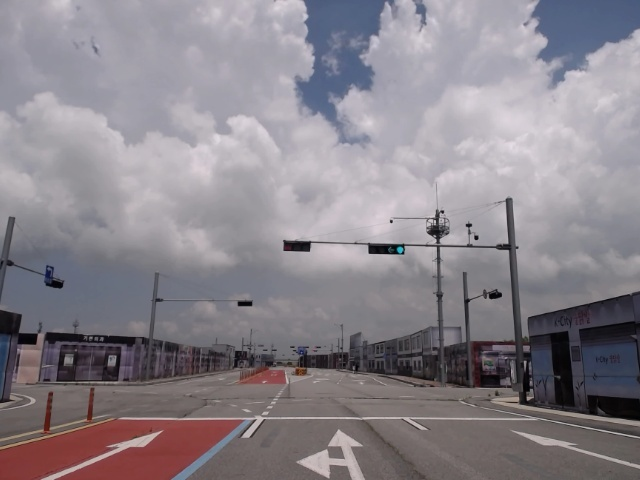all_green_4: (367, 242, 406, 255)
